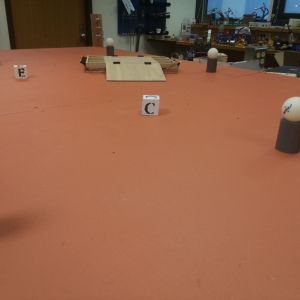blockC: (142, 95, 159, 116)
blockE: (13, 65, 26, 79)
corner: (91, 15, 104, 47)
obstacle: (275, 96, 300, 154), (104, 37, 115, 56), (208, 49, 216, 72)
side: (78, 56, 104, 73), (163, 54, 181, 75)
slope: (105, 61, 165, 81)
